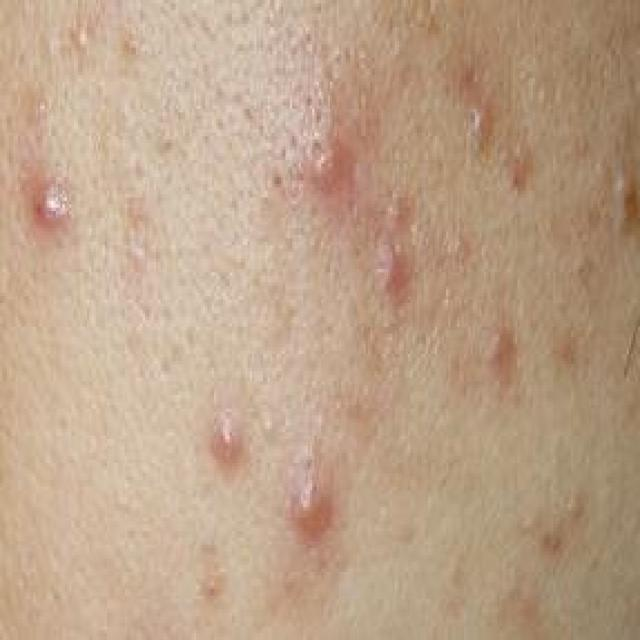9: (187, 381, 263, 511), (288, 452, 368, 562), (36, 132, 80, 266), (292, 133, 368, 204)
dark spot: (560, 238, 604, 320)
